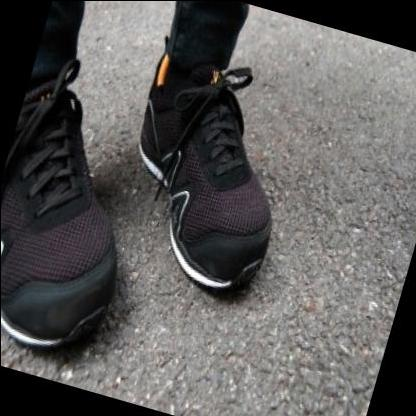safety-shoe: (105, 28, 335, 308), (1, 83, 165, 387)
